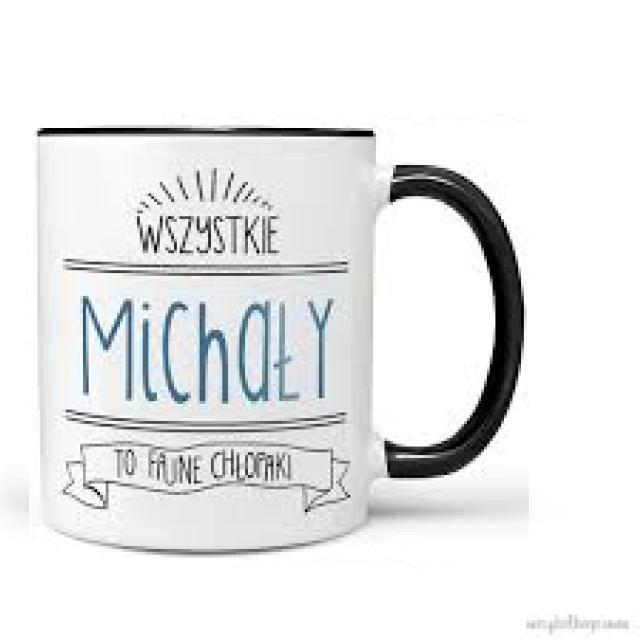Coffee Mug: (34, 123, 523, 548)
